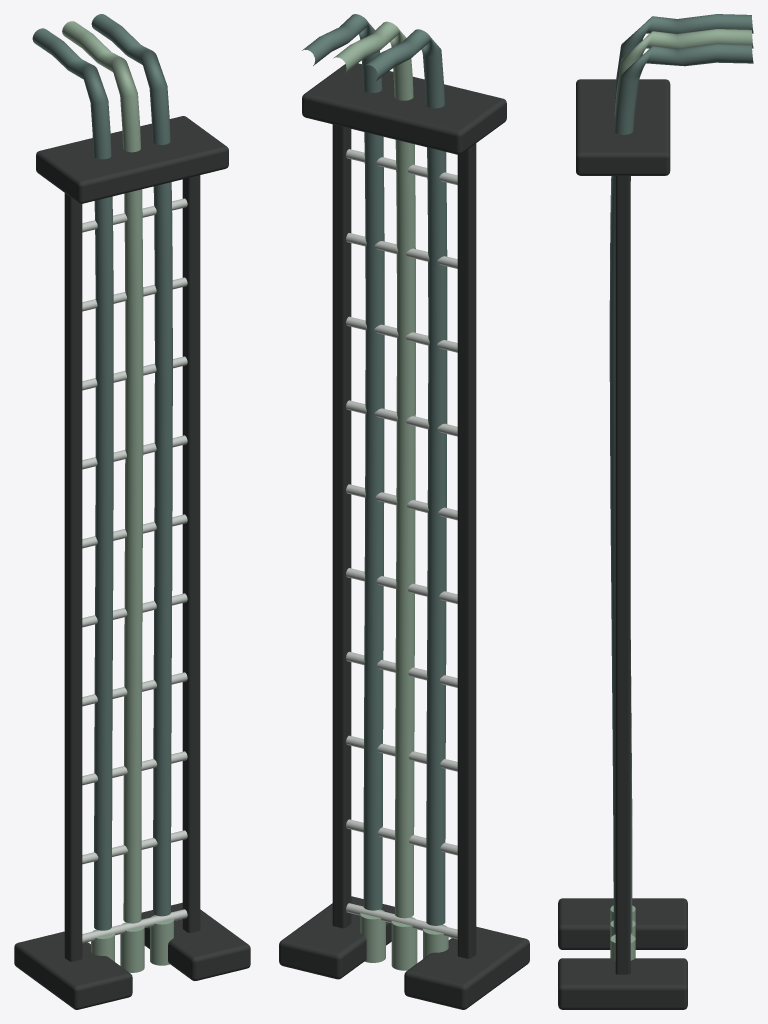
File: abandoned-telephone-exchange-cable-drop-ladder-d7c8a571__32006.glb
3 views of the same model, side by side, from view 1: azimuth 30°, elevation 25°; view 2: azimuth 150°, elevation 25°; view 3: azimuth 270°, elevation 25° (orthographic). The views are drawn at different scales.
Visible parts, largest first — view 1: cable-drop-ladder; view 2: cable-drop-ladder; view 3: cable-drop-ladder.
Part boxes in pixels (box(x1,y1,x2,y2)): cable-drop-ladder: box(14, 14, 250, 1009); cable-drop-ladder: box(279, 14, 529, 1009); cable-drop-ladder: box(558, 14, 753, 1009).
Bounding box in the file's own units: 0.5401 × 2.63 × 0.4974.
